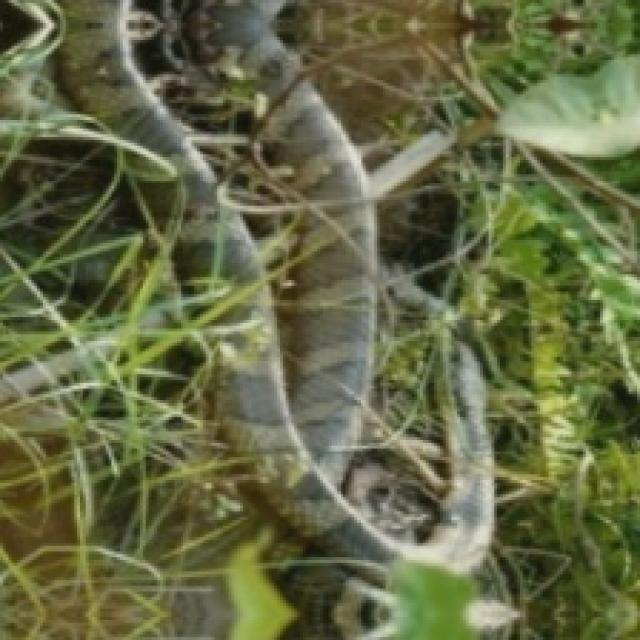king cobra: (0, 0, 491, 637)
